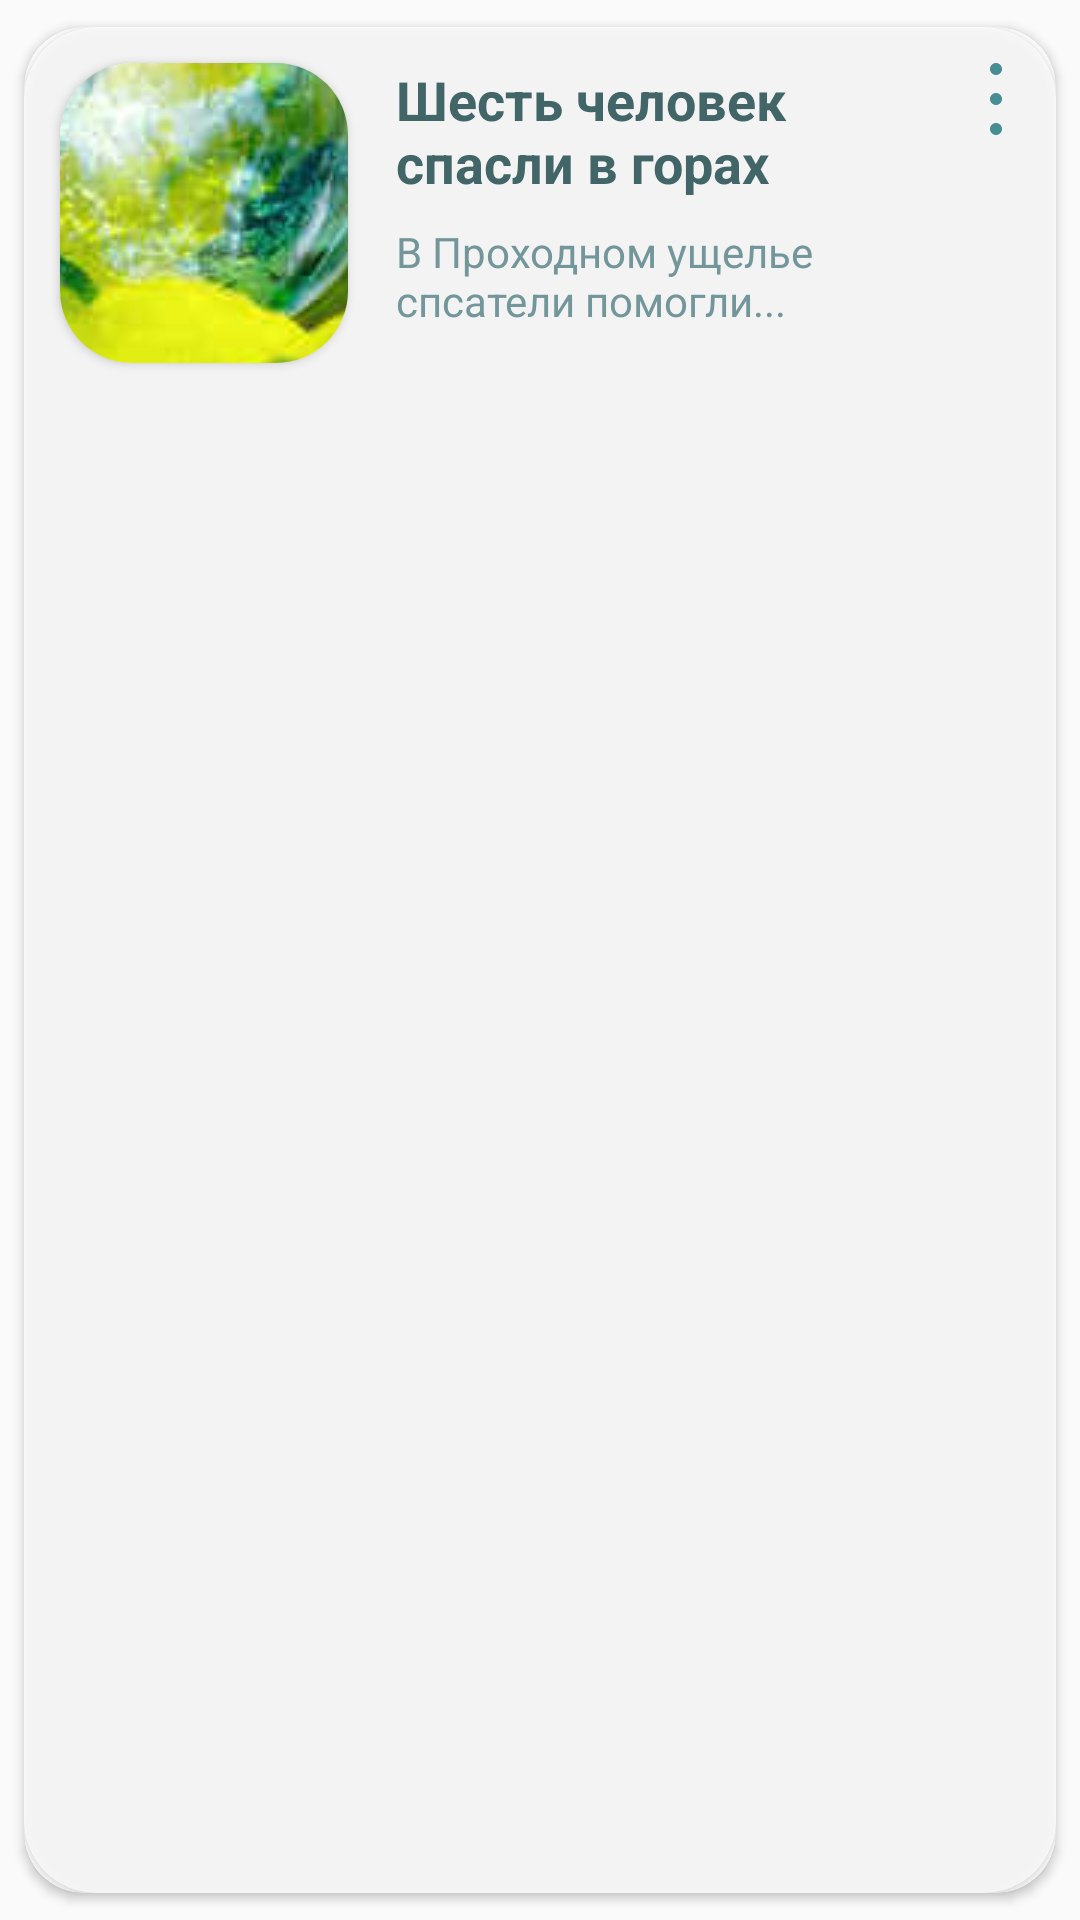

Locate icon controls on the screen. Image size 1080*1920, boxes as (x1, y1, x2, y2).
dots vertical: (990, 63, 1002, 135)
